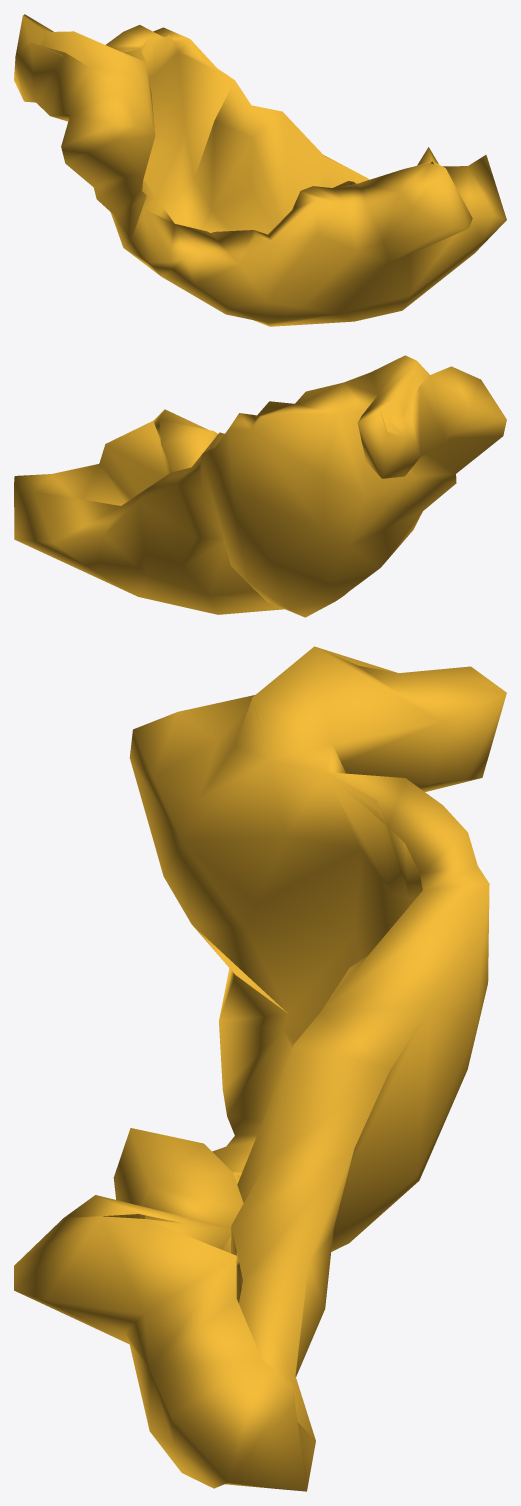
File: nervoso-precentral-sulcus-superior-part-l.glb
3 views of the same model, one above another, from view 1: azimuth 30°, elevation 25°; view 2: azimuth 150°, elevation 25°; view 3: azimuth 270°, elevation 25° (orthographic). The views are drawn at different scales.
Parts seen in each view (by area): view 1: Precentral sulcus (Superior part)*.l; view 2: Precentral sulcus (Superior part)*.l; view 3: Precentral sulcus (Superior part)*.l.
Boxes of the visible parts, <box> form: Precentral sulcus (Superior part)*.l: <box>14,14,506,326</box>; Precentral sulcus (Superior part)*.l: <box>14,355,506,617</box>; Precentral sulcus (Superior part)*.l: <box>14,646,506,1491</box>.
Bounding box in the file's own units: 0.0392 × 0.0268 × 0.0205.
